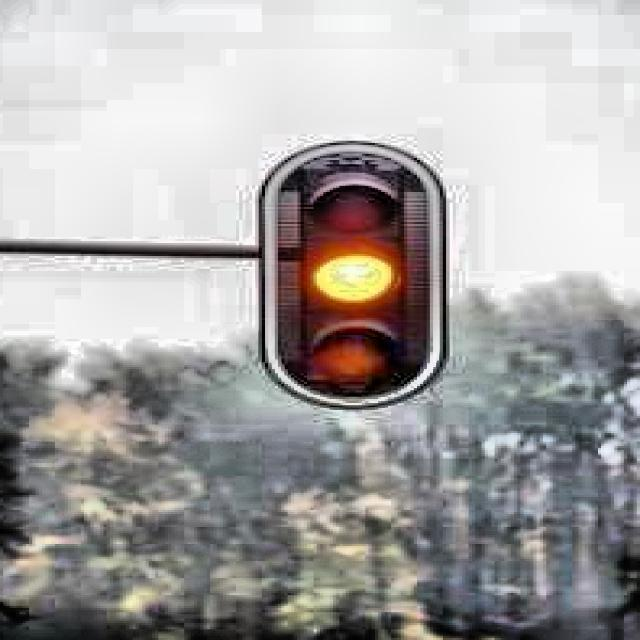yellow: (296, 166, 404, 391)
